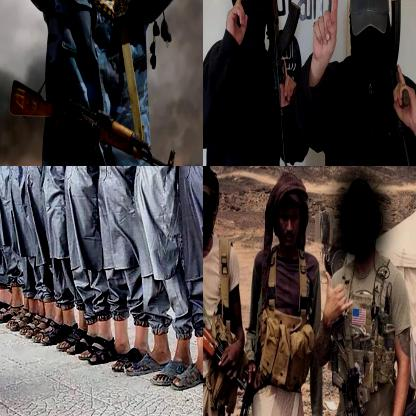rifle: (9, 77, 182, 165), (367, 0, 415, 165), (259, 0, 302, 165), (203, 257, 249, 391), (327, 365, 369, 415)
